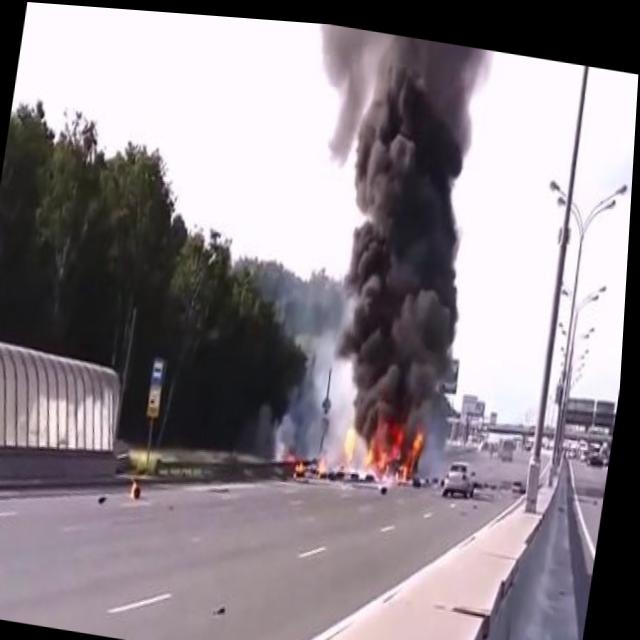fire: (340, 403, 438, 488), (288, 440, 337, 481), (133, 472, 144, 499)
